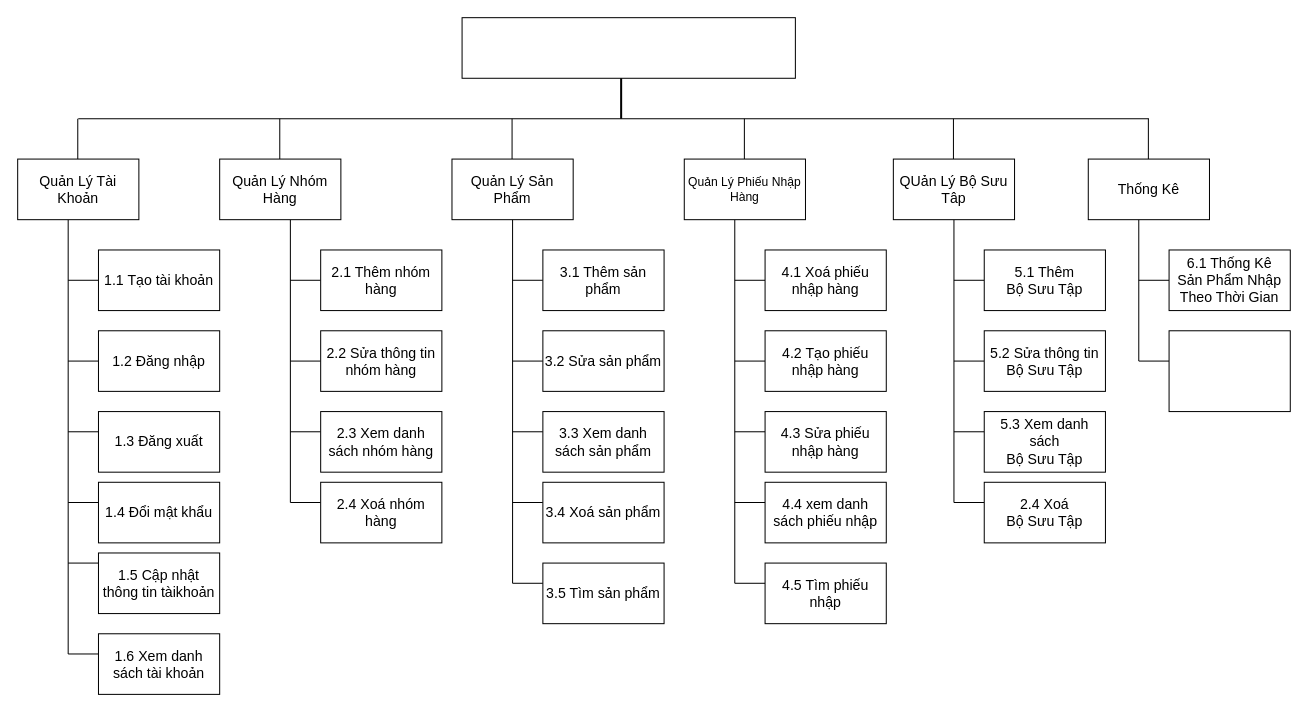
Some shapes in this 1308 by 712 pixel diagram are drawn without their labels. The box of each missing label's shape, as (x1, y1, x2, y2) in pixels:
6.2 Thống Kê Sản Phẩm NhậpTheo Nhóm Hàng và Thời Gian: (1168, 330, 1290, 412)
Quản Lý Nhập Hàng Thiết Bị Vệ Sinh Inux: (461, 17, 795, 78)
